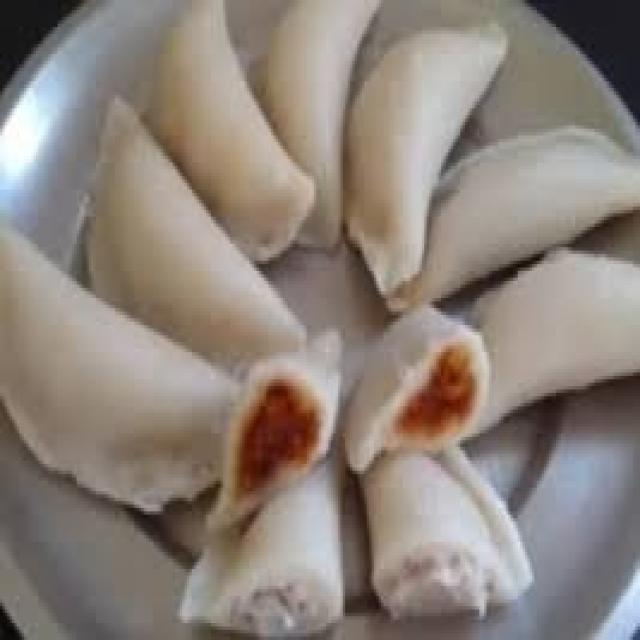poorna kolukattai: (2, 0, 639, 626)
